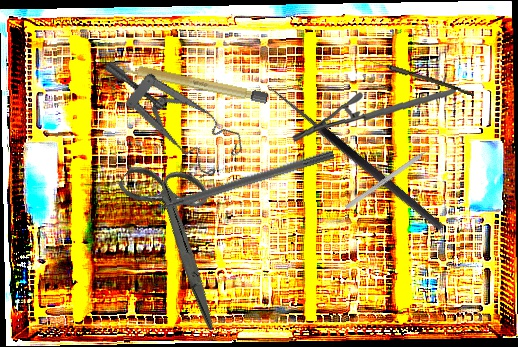Hook Surgical: (260, 85, 446, 240), (344, 142, 438, 211)
Iris Scissors: (79, 142, 279, 333)
Needle Holder: (291, 79, 457, 152)
Pusher: (130, 147, 336, 221)
Scalpel Handle: (115, 60, 269, 104)
Speculum: (101, 23, 252, 197)
Surgical Spoon: (358, 55, 476, 97)
